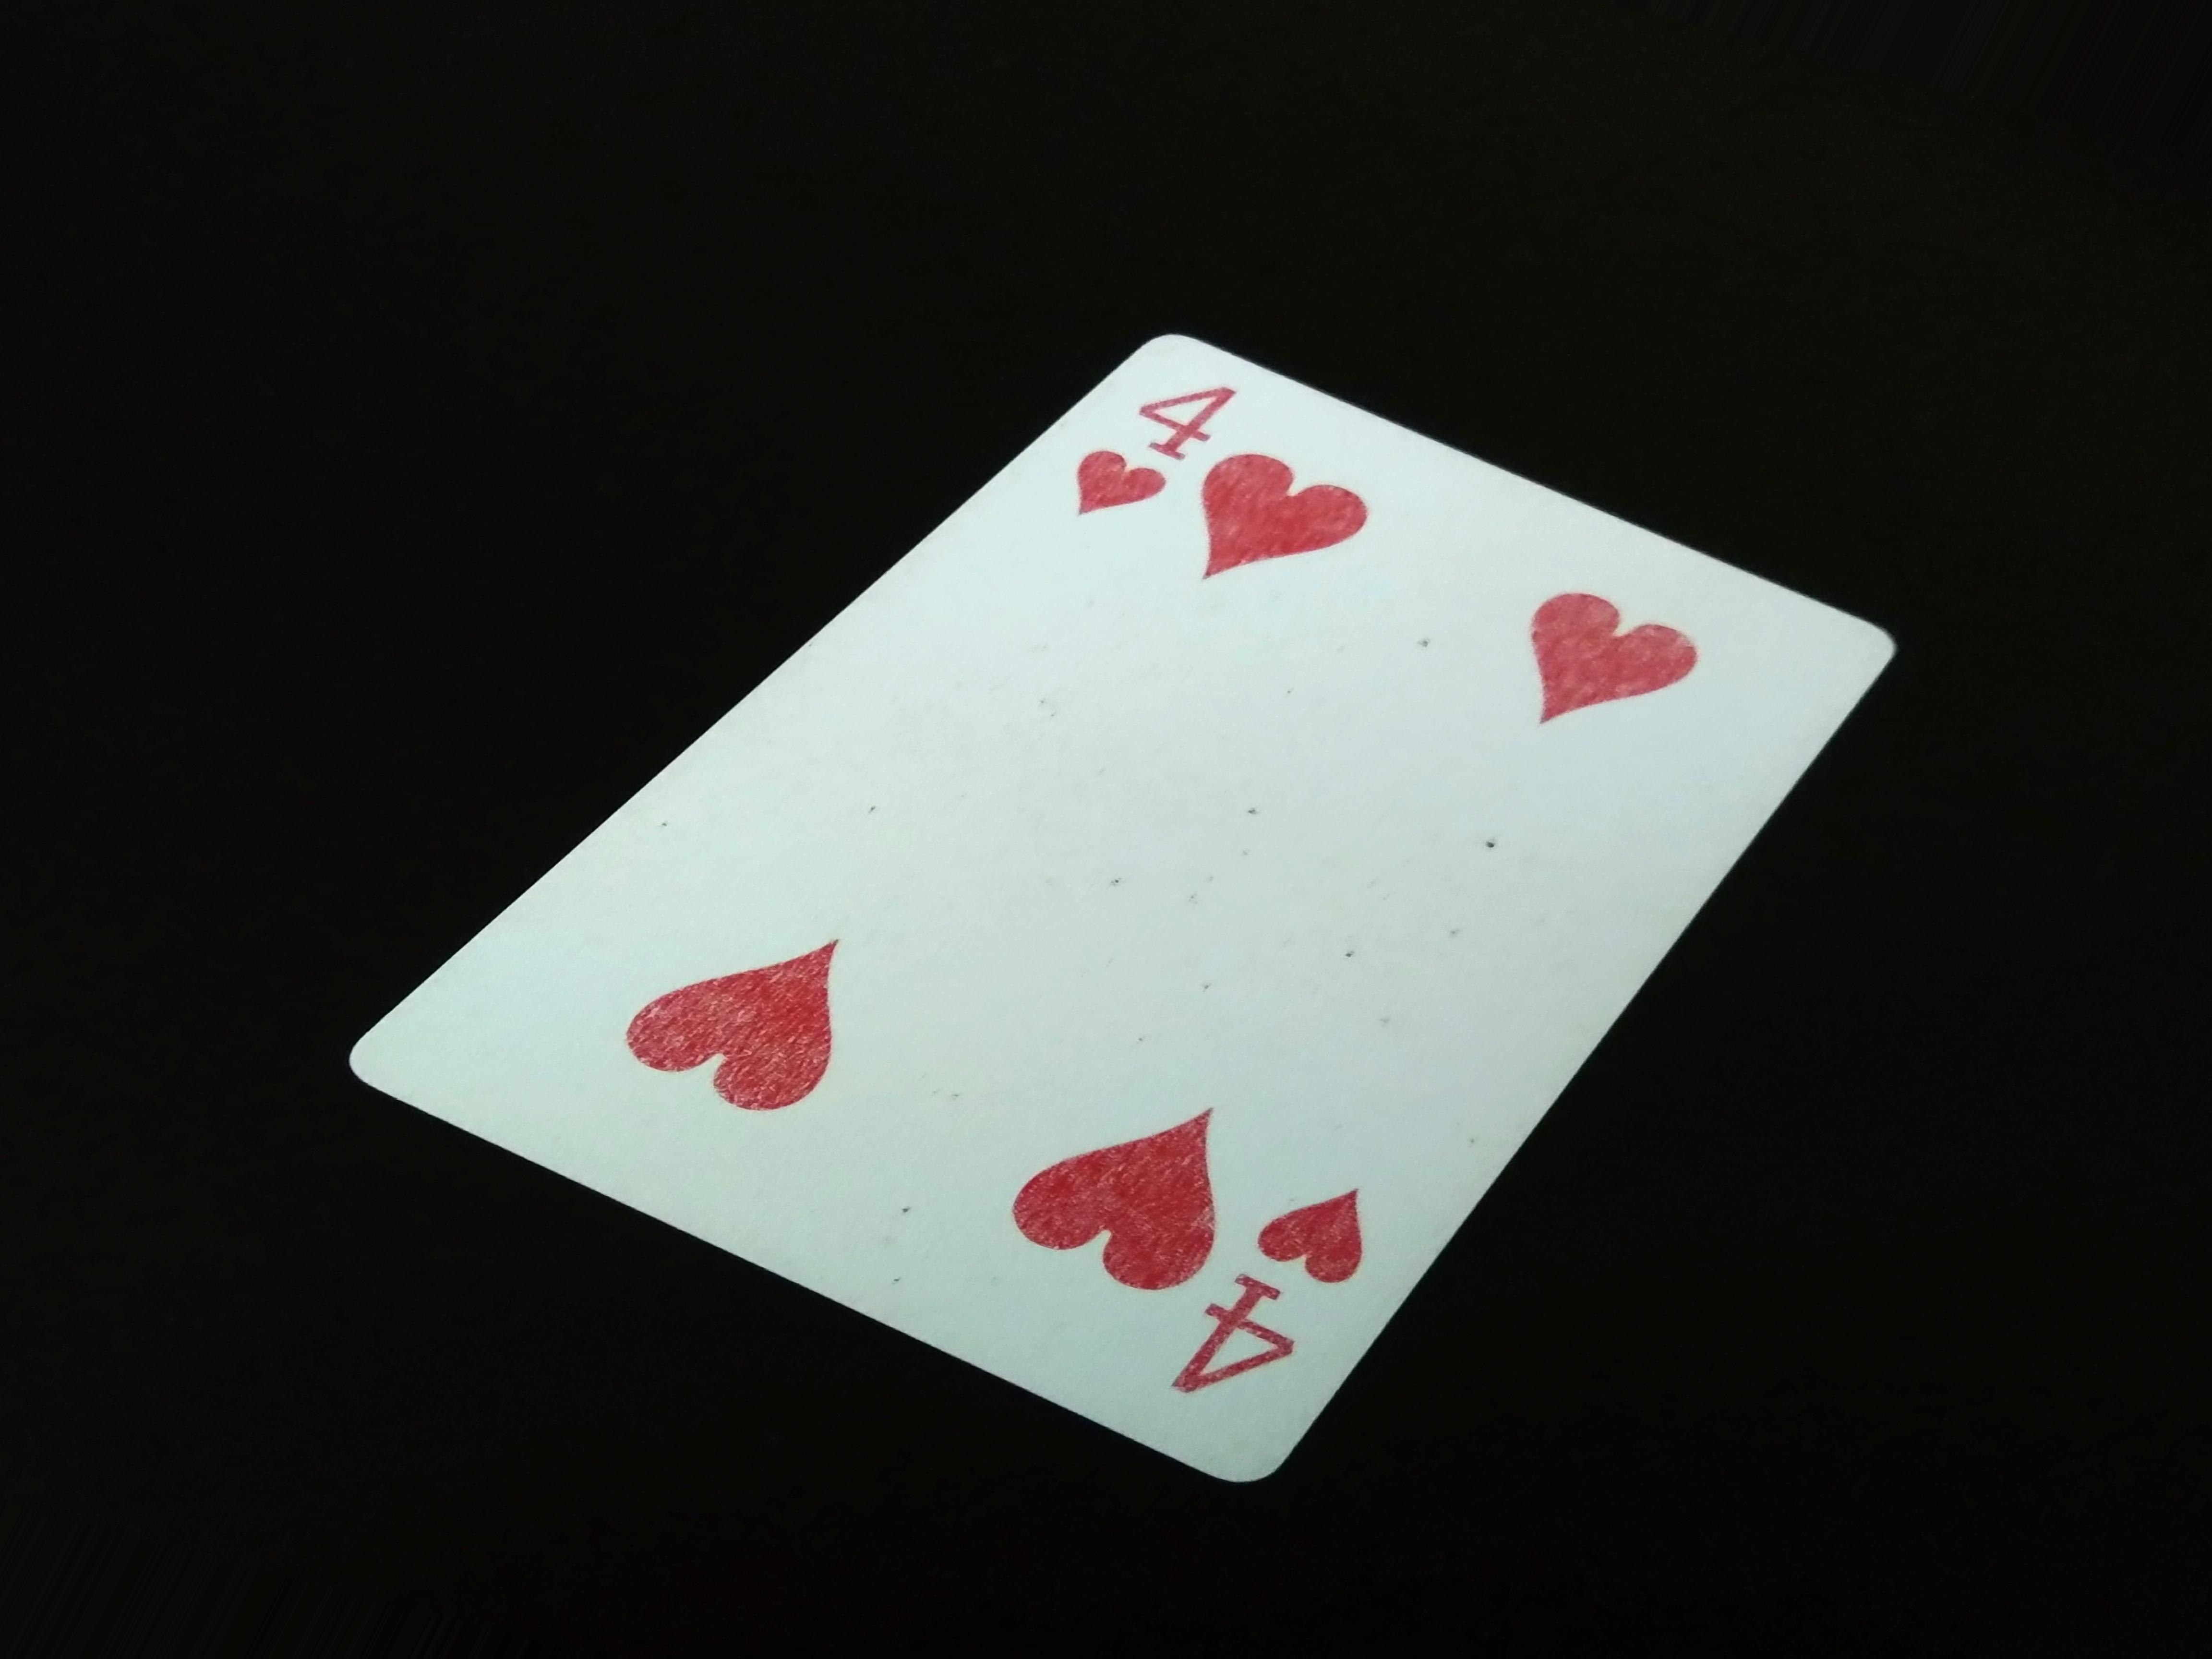4H: (1064, 333, 1258, 519)
